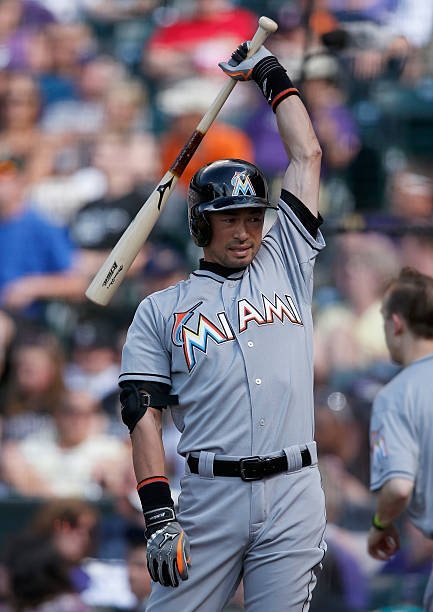bita: (87, 13, 275, 303)
